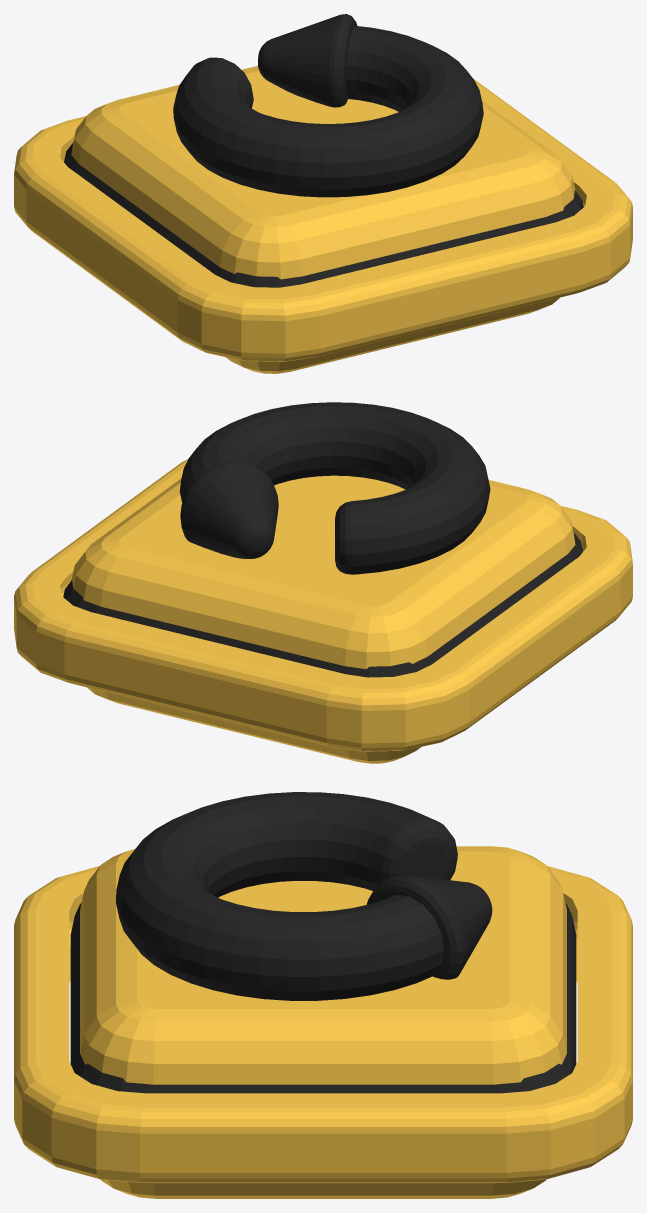
File: Button_Undo.fbx
3 views of the same model, one above another, from view 1: azimuth 30°, elevation 25°; view 2: azimuth 150°, elevation 25°; view 3: azimuth 270°, elevation 25° (orthographic). The views are drawn at different scales.
Parts seen in each view (by area): view 1: Cube_12, Cube, Torus, Cone, Cube_10; view 2: Cube, Cube_12, Torus, Cone, Cube_10; view 3: Cube_12, Cube, Torus, Cube_10, Cone.
Part boxes in pixels (x1=…): Cube_12: x1=14, y1=78, x2=632, y2=361; Cube: x1=71, y1=65, x2=575, y2=373; Torus: x1=173, y1=26, x2=483, y2=197; Cone: x1=258, y1=14, x2=357, y2=107; Cube_10: x1=64, y1=142, x2=583, y2=287; Cube: x1=71, y1=475, x2=575, y2=763; Cube_12: x1=14, y1=459, x2=632, y2=751; Torus: x1=179, y1=402, x2=490, y2=574; Cone: x1=180, y1=462, x2=278, y2=558; Cube_10: x1=63, y1=532, x2=582, y2=677; Cube_12: x1=14, y1=866, x2=632, y2=1182; Cube: x1=80, y1=846, x2=566, y2=1198; Torus: x1=116, y1=792, x2=457, y2=1000; Cube_10: x1=70, y1=903, x2=576, y2=1093; Cone: x1=366, y1=875, x2=492, y2=979.
Bounding box in the file's own units: 254 × 122 × 254.
